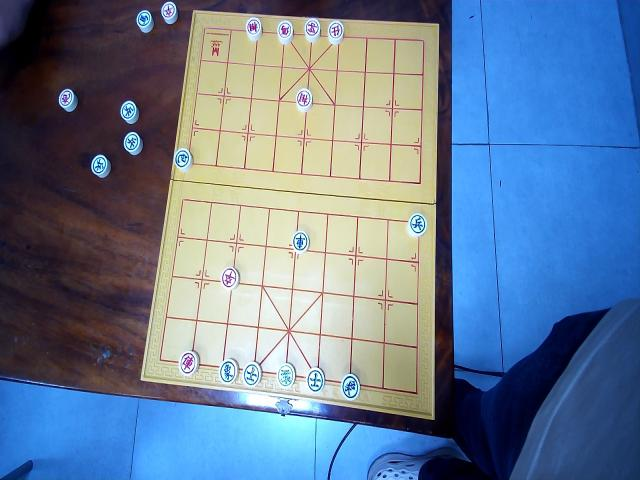piece: (178, 348, 198, 376), (242, 361, 262, 387), (340, 373, 360, 399), (277, 362, 296, 389), (58, 87, 78, 112), (218, 358, 237, 384), (90, 155, 110, 179), (122, 131, 142, 155), (306, 366, 324, 392), (407, 212, 426, 236), (135, 8, 153, 33), (244, 17, 262, 41), (220, 266, 238, 290), (160, 0, 178, 24), (174, 146, 192, 170), (291, 229, 309, 253), (120, 100, 138, 124), (328, 19, 344, 45), (304, 17, 320, 42), (296, 87, 312, 112), (276, 19, 292, 43)
